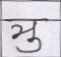u_matra: (17, 38, 43, 54)
